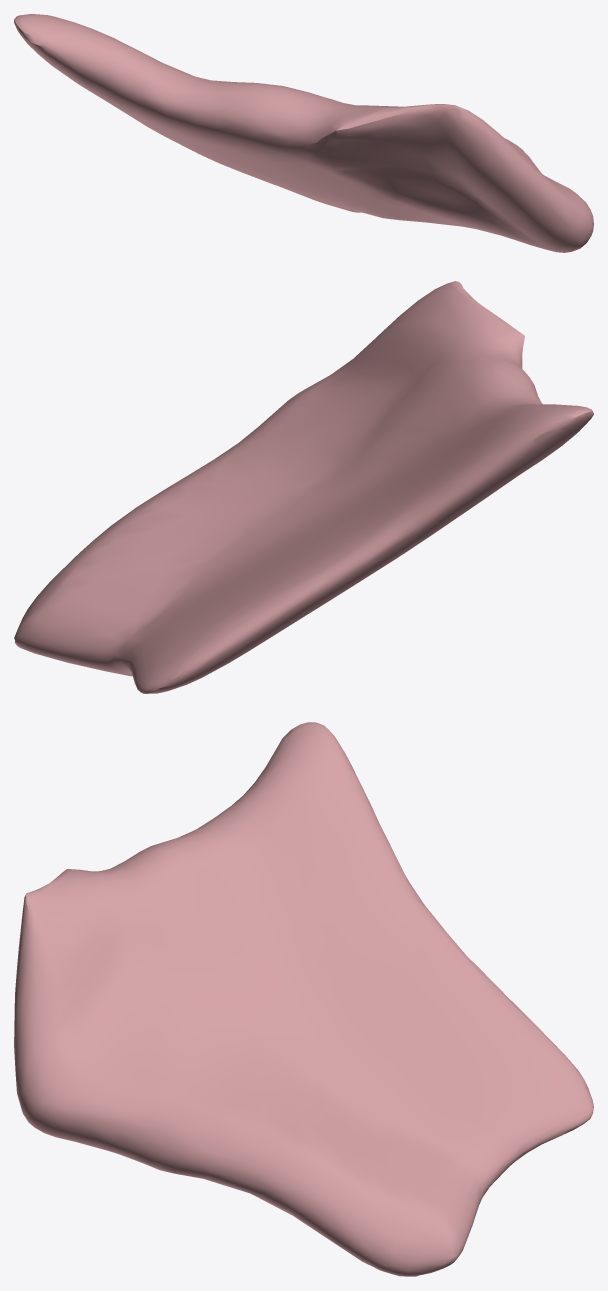
The model's file is fma275333_mm3385.glb.
3 views of the same model, one above another, from view 1: azimuth 30°, elevation 25°; view 2: azimuth 150°, elevation 25°; view 3: azimuth 270°, elevation 25° (orthographic). The views are drawn at different scales.
Parts seen in each view (by area): view 1: FMA275333_MM3385; view 2: FMA275333_MM3385; view 3: FMA275333_MM3385.
Part boxes in pixels (box(x1,y1,x2,y2)): FMA275333_MM3385: box(14, 14, 593, 252); FMA275333_MM3385: box(14, 281, 593, 693); FMA275333_MM3385: box(14, 722, 593, 1276).
Bounding box in the file's own units: 0.0293 × 0.0172 × 0.0288.
